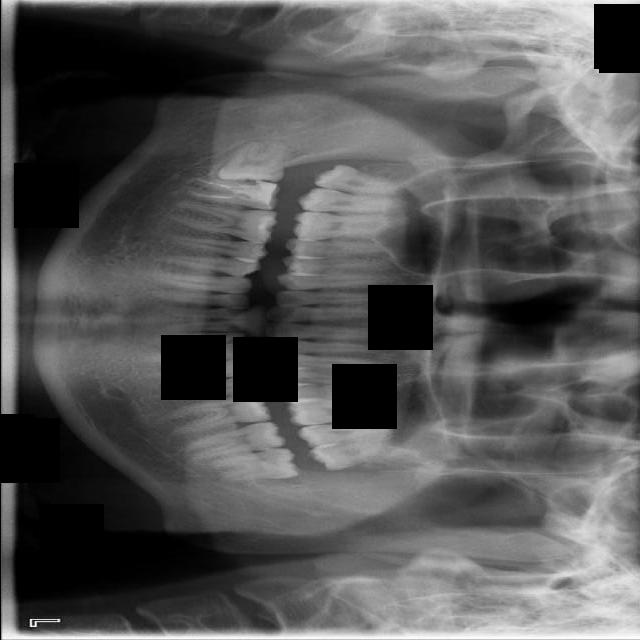3M ESPE Implant: (313, 159, 408, 205)
52: (247, 181, 281, 212)
73: (182, 172, 258, 208), (11, 624, 21, 632)
BioHorizons Implant: (296, 424, 398, 449)
BioLife Implant: (306, 434, 428, 475)
Biomet 3i Implant: (205, 445, 299, 490)
Blue Sky Bio Implant: (183, 419, 286, 462)
Caries: (297, 188, 411, 214)
Implant: (181, 174, 281, 211)
Keystone Dental Implant: (217, 138, 288, 184)
